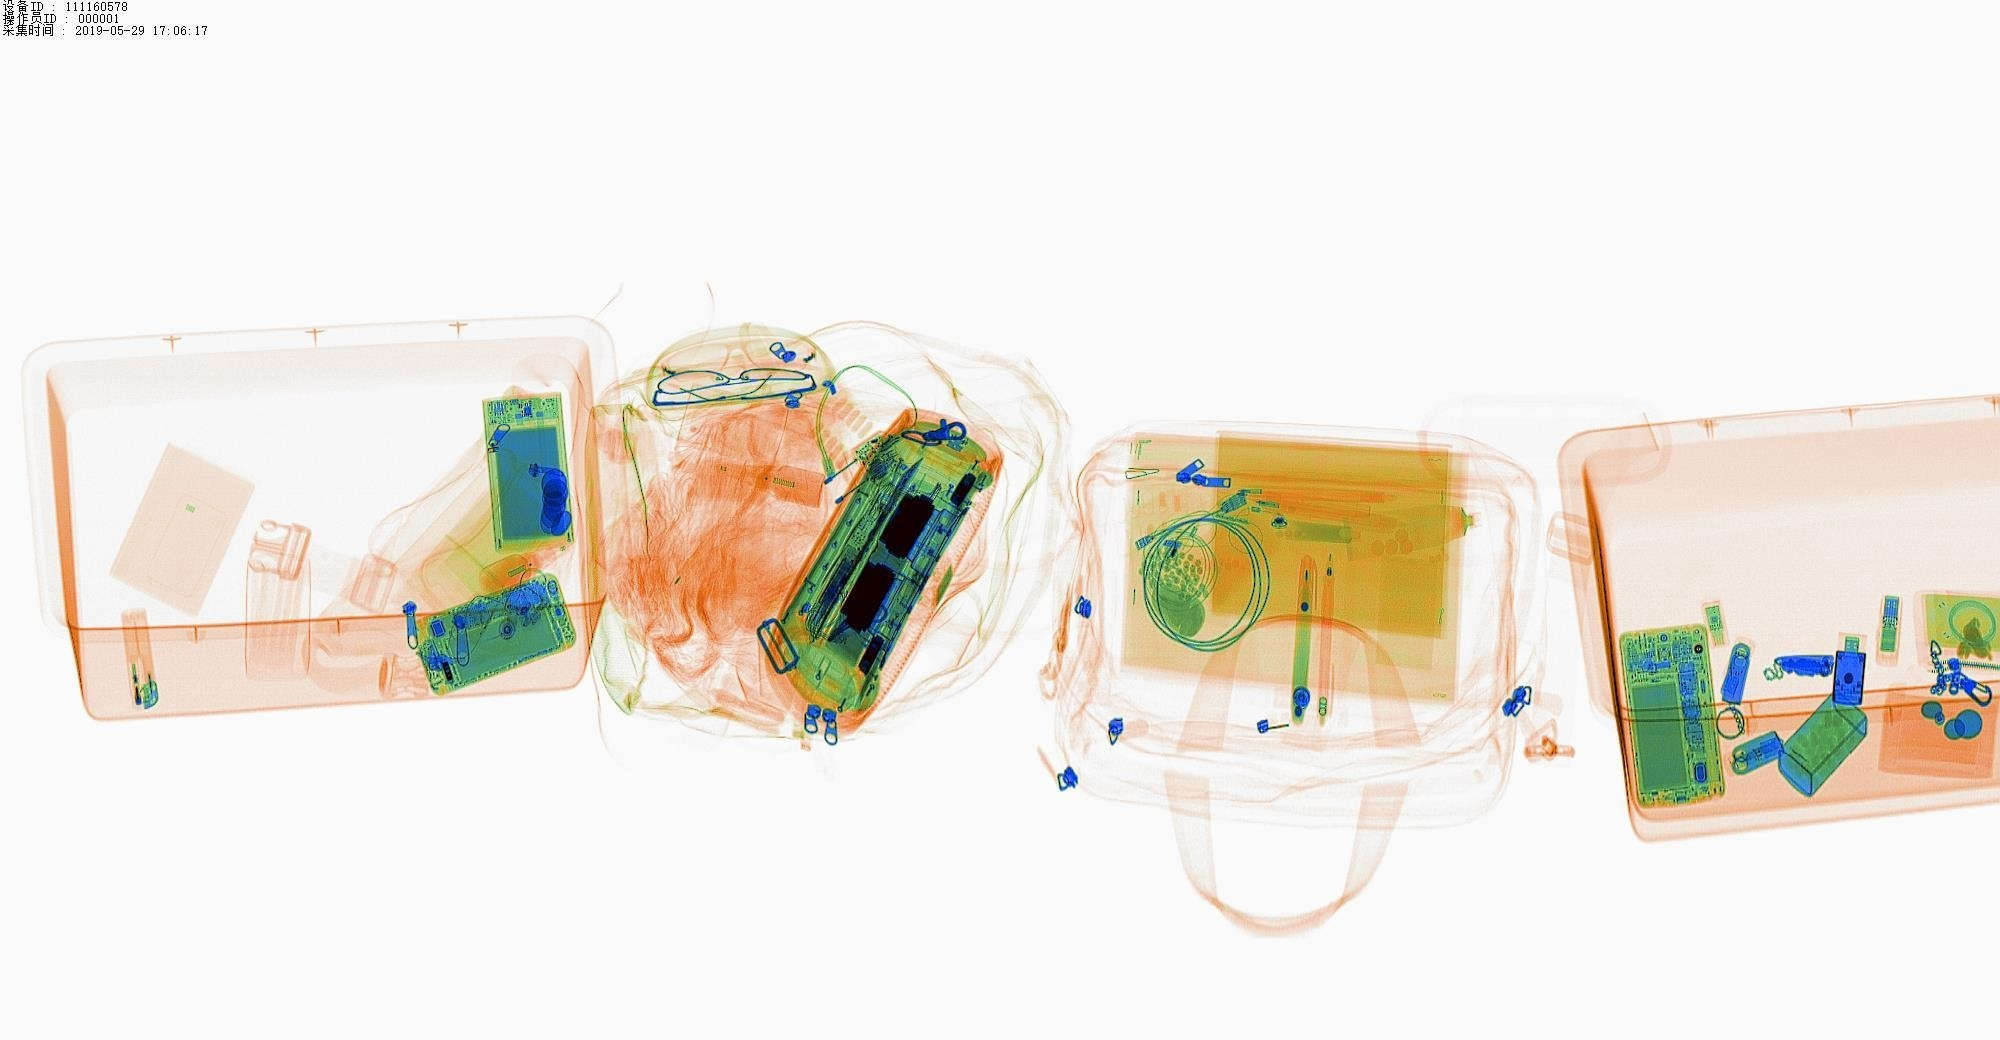NonmetallicFire: (111, 599, 183, 716)
